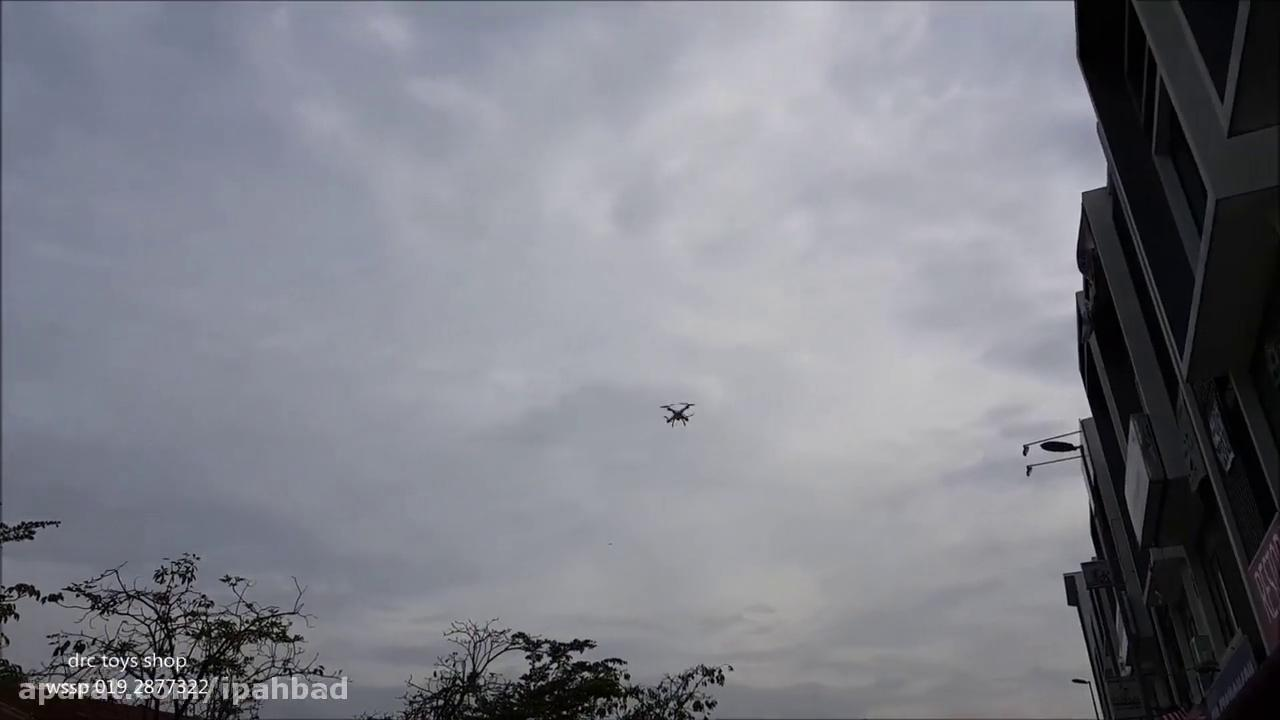drone: (657, 398, 698, 428)
